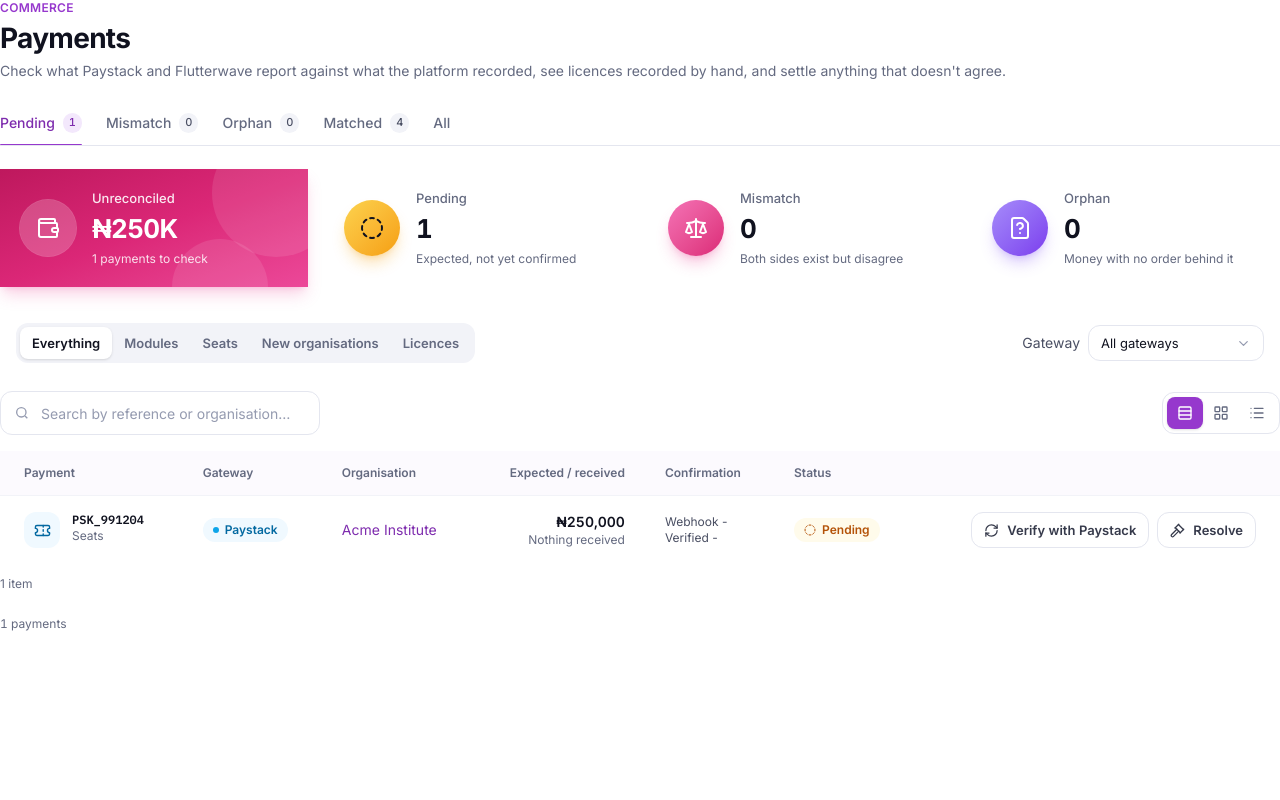
Scenario: PaymentsBoard: resolving by hand › marks a payment paid with the note, and takes it off the pending queue
The image size is (1280, 800).
Expected: the text "PSK_991204" is shown, left=72, top=512, right=144, bottom=528
Click the button "Resolve" at point(1207, 530), box left=1157, top=512, right=1256, bottom=548
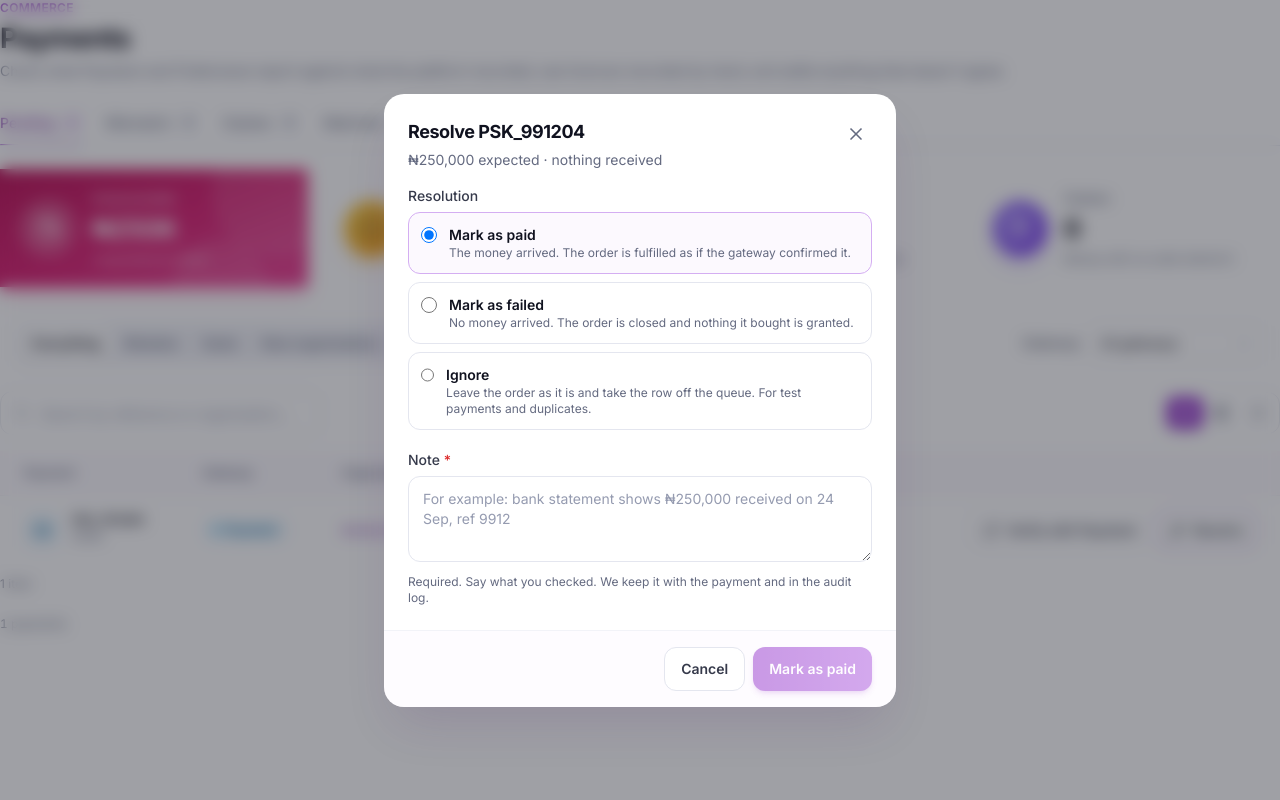
Type "Bank statement checked" into the text box labelled "Note *" at point(640, 518), box left=408, top=476, right=872, bottom=562
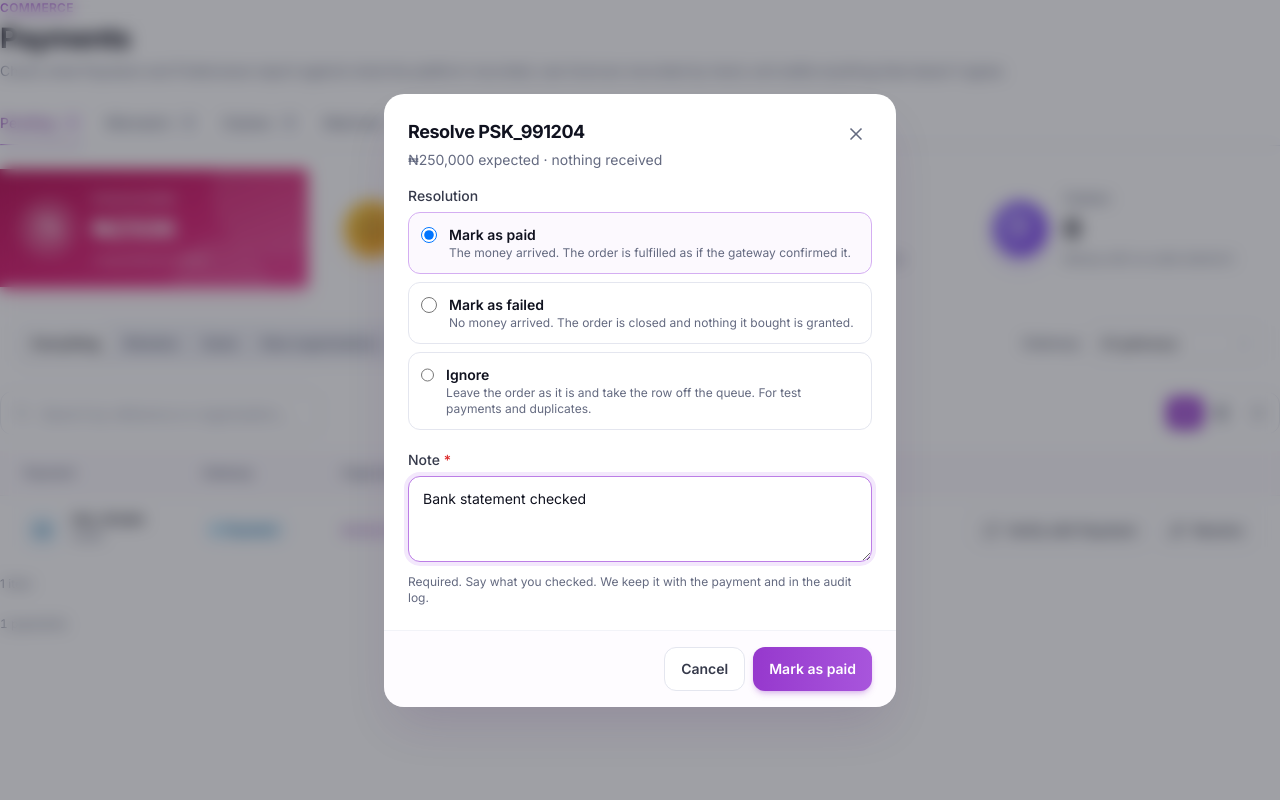
Click the button "Mark as paid" at point(813, 668), box left=753, top=646, right=872, bottom=690
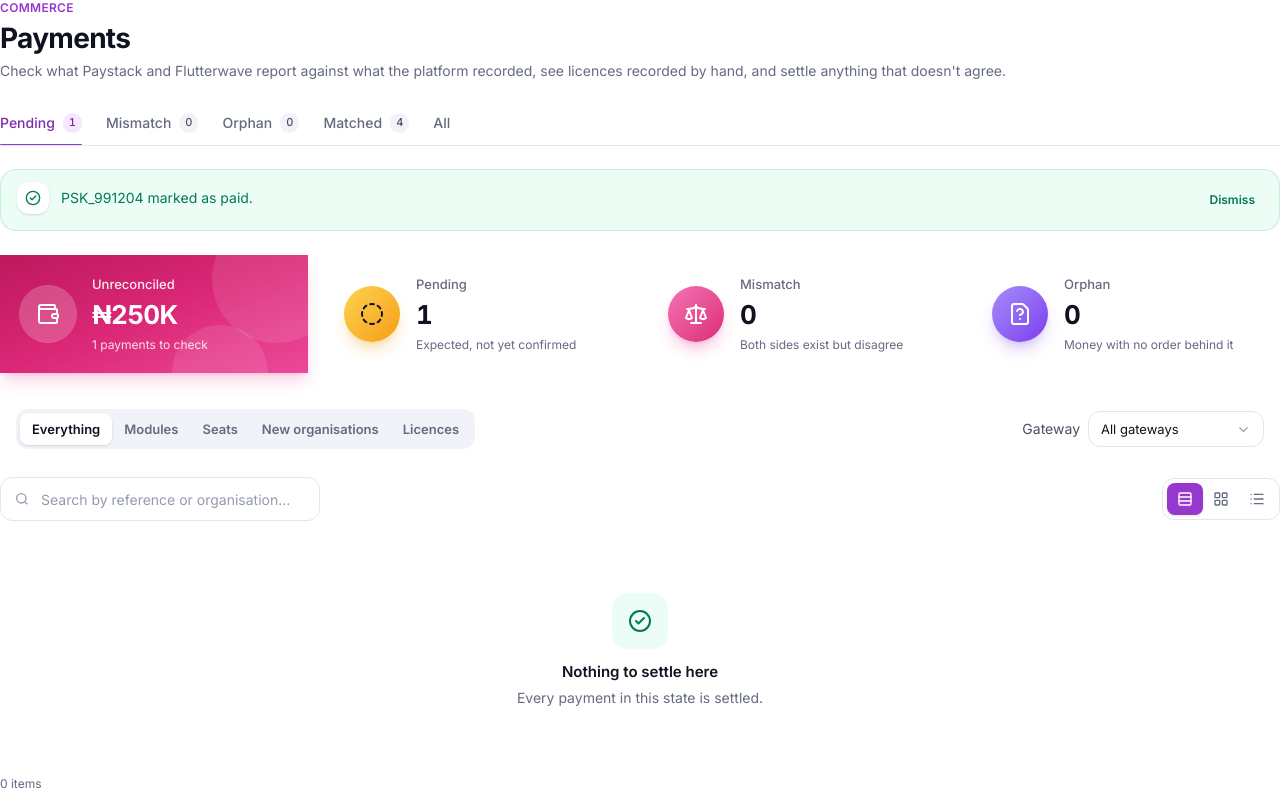
Now the message shows "PSK_991204 marked as paid", box left=61, top=189, right=253, bottom=206
